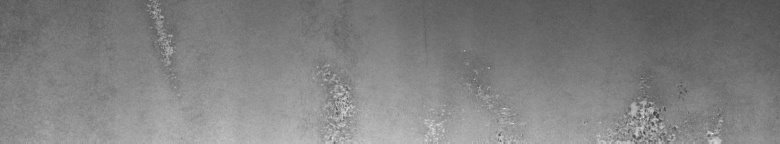hc: (607, 76, 724, 136)
